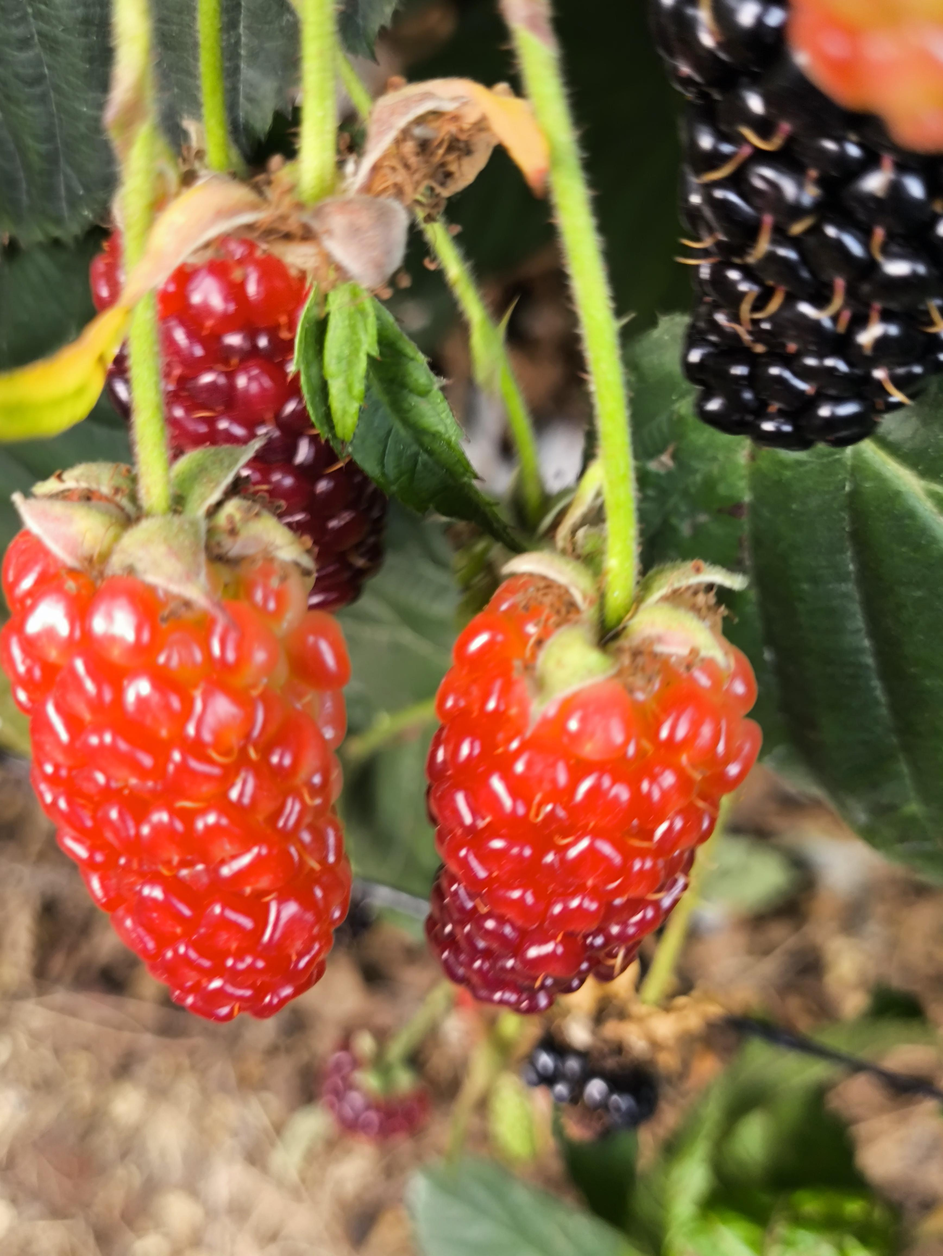maduro: (652, 0, 943, 449)
marron: (426, 551, 761, 1012)
naranja: (0, 464, 351, 1021)
